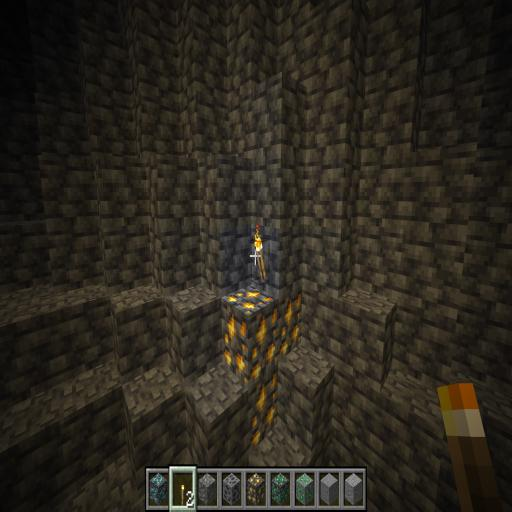gold ore: (221, 265, 306, 457)
